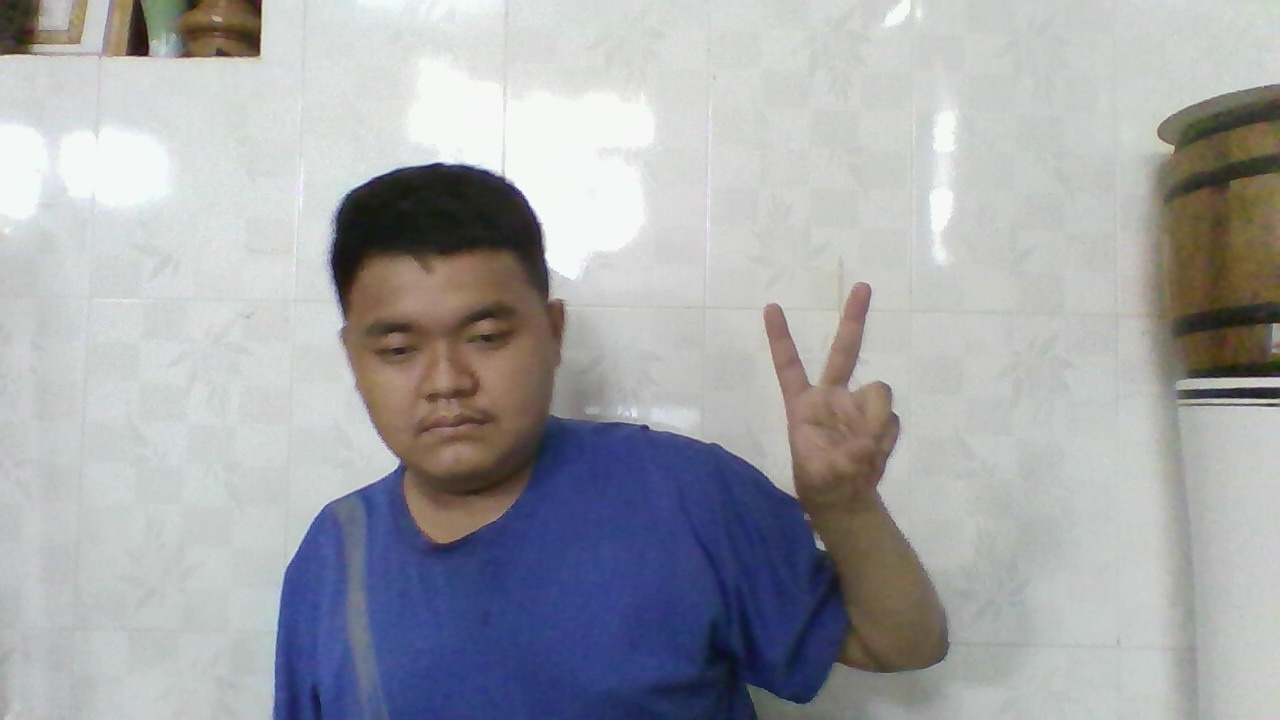V: (754, 273, 908, 518)
